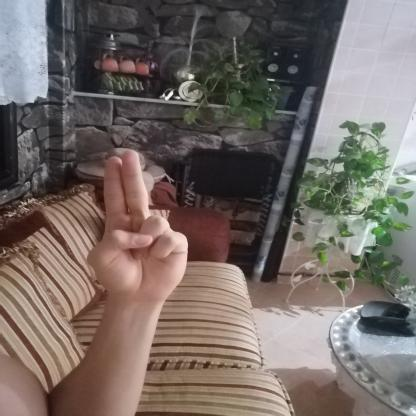TA: (79, 139, 201, 307)
